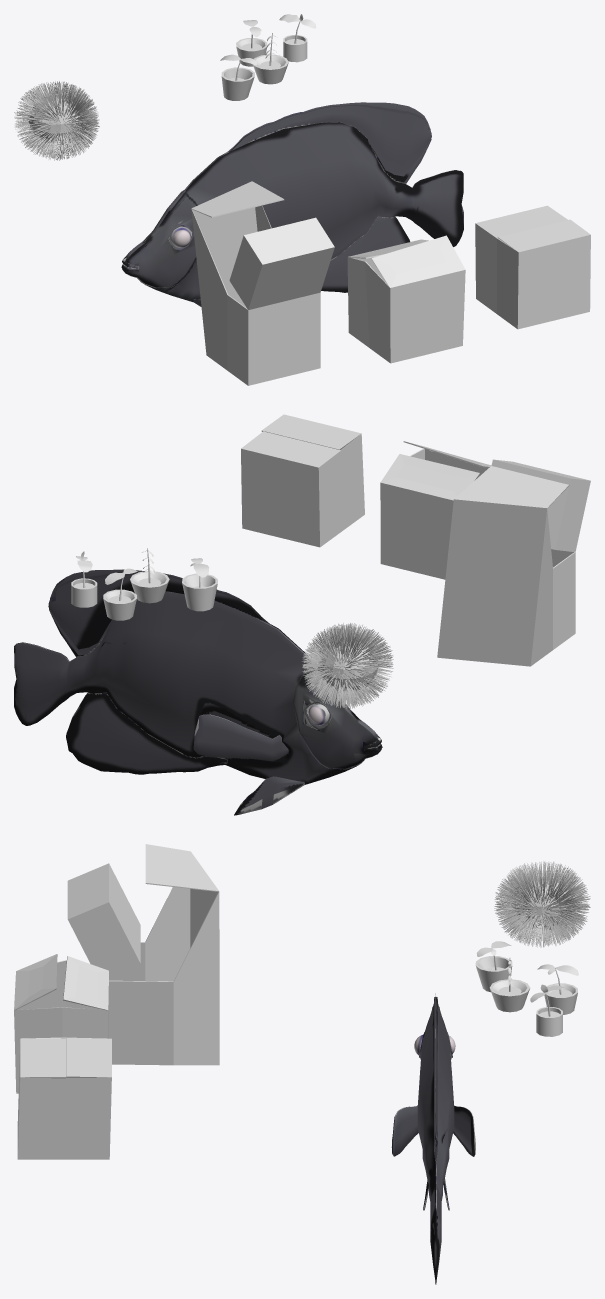
The model's file is Asset.fbx.
The picture shows the model from 3 angles, top to bottom: view 1: azimuth 30°, elevation 25°; view 2: azimuth 150°, elevation 25°; view 3: azimuth 270°, elevation 25°; orthographic projection. The views are drawn at different scales.
Parts seen in each view (by area): view 1: Fish1, BOX1, box2, Box3, Urchin, plants2, plants3, plants1, plants4; view 2: Fish1, BOX1, Box3, box2, Urchin, plants2, plants4, plants3, plants1; view 3: BOX1, Box3, Fish1, box2, Urchin, plants2, plants3, plants4, plants1.
Boxes of the visible parts, x1,y1,x2,y2 form: Fish1: (121,102,463,306); BOX1: (191,181,334,385); box2: (347,235,465,363); Box3: (475,205,590,329); Urchin: (14,81,99,160); plants2: (220,54,257,100); plants3: (253,33,288,84); plants1: (279,14,316,62); plants4: (236,20,267,66); Fish1: (14,569,382,815); BOX1: (437,459,590,666); Box3: (241,414,364,547); box2: (380,441,491,579); Urchin: (302,623,393,708); plants2: (182,558,217,611); plants4: (103,568,137,620); plants3: (130,548,169,603); plants1: (71,551,97,607); BOX1: (67,844,219,1065); Box3: (17,1037,111,1159); Fish1: (391,993,475,1284); box2: (14,954,108,1093); Urchin: (494,861,590,947); plants2: (475,941,512,992); plants3: (489,958,530,1012); plants4: (537,964,578,1014); plants1: (530,984,565,1036).
Bounding box in the file's own units: 567 × 352 × 653.
